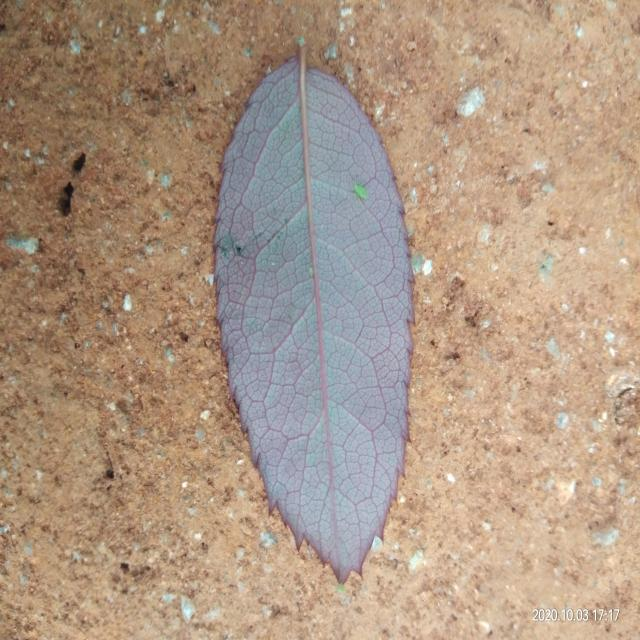rose: (215, 45, 414, 582)
